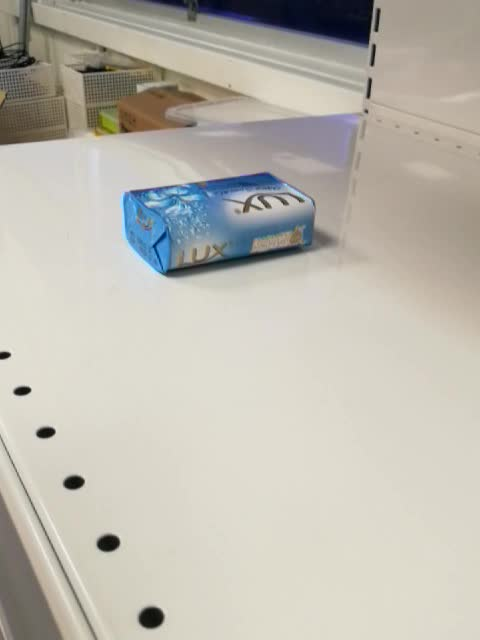soap: (122, 171, 316, 274)
